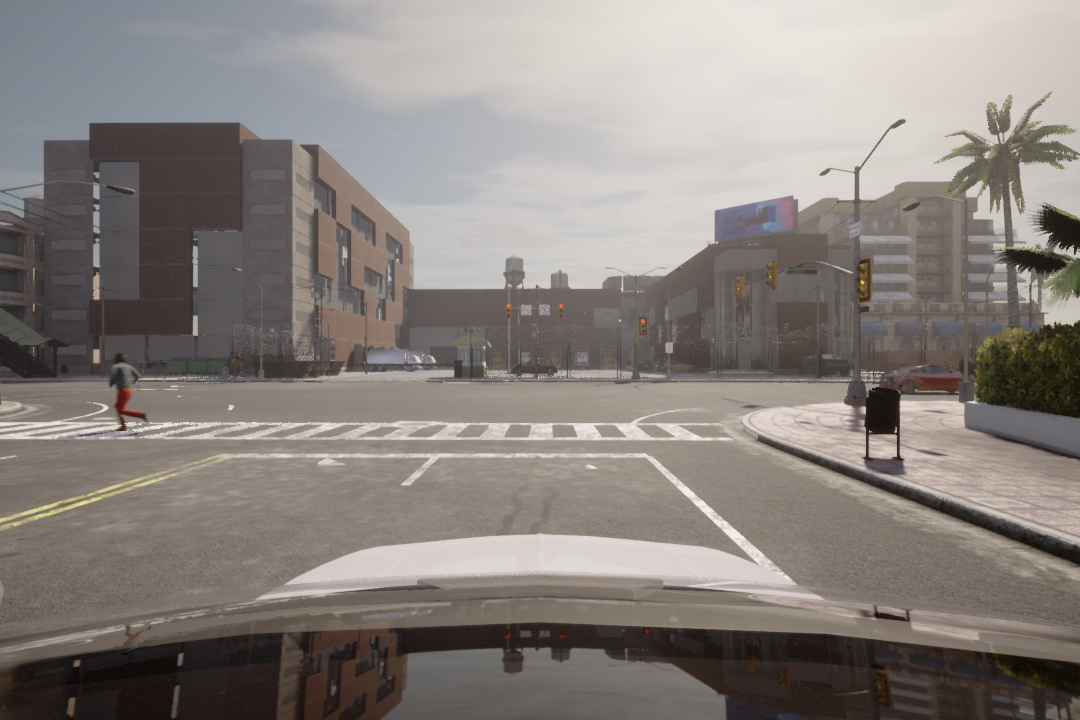TrafficLight: (857, 261, 874, 301), (764, 262, 778, 292), (734, 274, 745, 300), (639, 318, 649, 337), (504, 302, 513, 321), (555, 304, 566, 319)
walkside: (1, 418, 747, 452)
